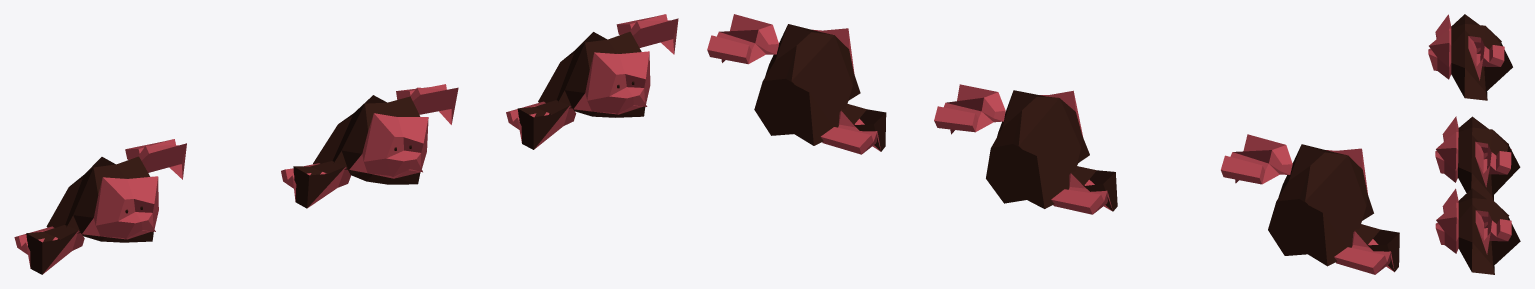
File: SmolMonster-Attackprojectile-hurt-walkidle.fbx
The picture shows the model from 3 angles, left to right: view 1: azimuth 30°, elevation 25°; view 2: azimuth 150°, elevation 25°; view 3: azimuth 270°, elevation 25°; orthographic projection. The views are drawn at different scales.
Visible parts, largest first — view 1: walk and idle, Hurt, attack(projectile); view 2: attack(projectile), Hurt, walk and idle; view 3: Hurt, attack(projectile), walk and idle.
Part boxes in pixels (x1,y1,x2,y2): walk and idle: (281, 84, 458, 208); Hurt: (506, 14, 678, 149); attack(projectile): (14, 139, 186, 274); attack(projectile): (1221, 134, 1399, 274); Hurt: (707, 14, 886, 154); walk and idle: (934, 84, 1117, 214); Hurt: (1435, 188, 1520, 274); attack(projectile): (1428, 14, 1512, 100); walk and idle: (1435, 116, 1520, 200).
Bounding box in the file's own units: 871 × 139 × 148.
